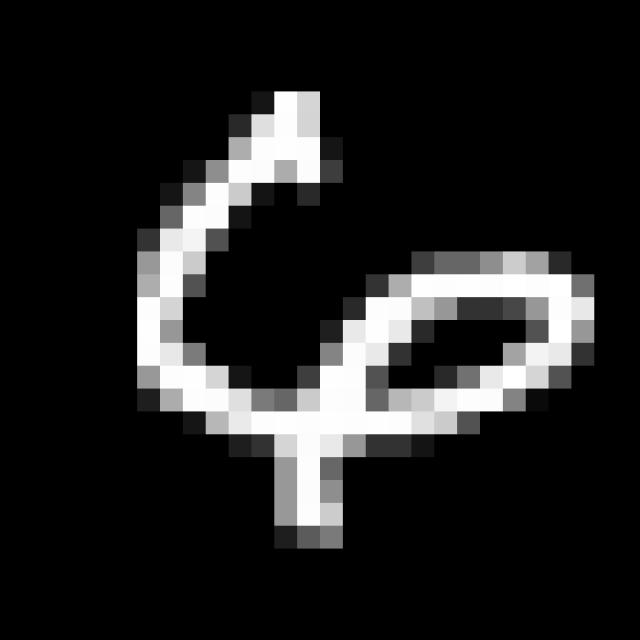six -6-: (123, 84, 602, 546)
